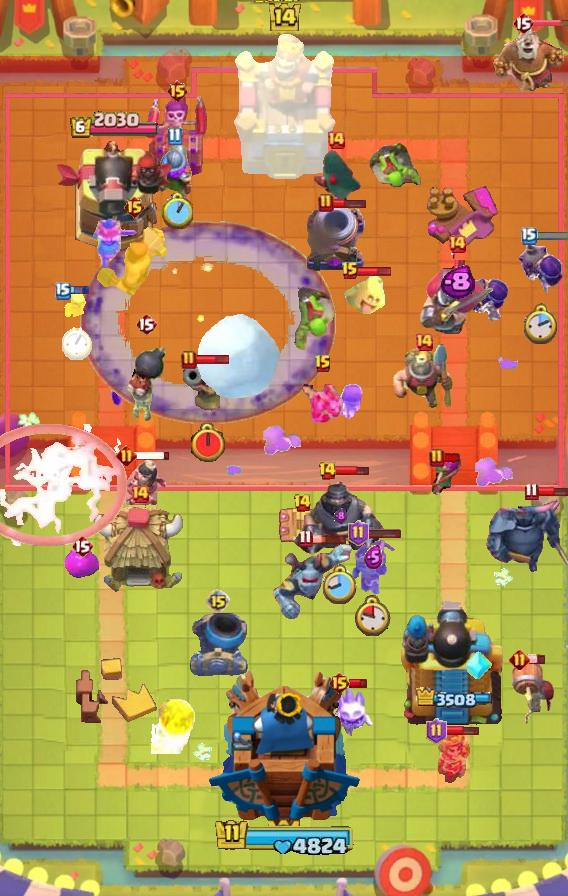archer: (429, 454, 467, 500)
bandit: (310, 149, 362, 205)
bar: (334, 464, 370, 477), (311, 533, 348, 545), (366, 527, 402, 539), (445, 725, 480, 737), (134, 450, 171, 461), (195, 354, 230, 365), (357, 266, 392, 277), (332, 198, 367, 209), (535, 230, 568, 241), (536, 486, 568, 497), (532, 18, 568, 27), (68, 285, 90, 296), (443, 452, 462, 464), (349, 678, 368, 689), (527, 654, 546, 665)
bar-level: (206, 589, 230, 613), (328, 671, 351, 695), (123, 195, 146, 219), (166, 79, 189, 103), (426, 718, 447, 744), (348, 520, 369, 546), (71, 534, 93, 558), (135, 312, 157, 336), (512, 11, 534, 35), (509, 649, 530, 670), (116, 445, 137, 466), (130, 484, 150, 504), (414, 332, 434, 352), (447, 234, 467, 254), (326, 130, 346, 150), (293, 493, 312, 513), (318, 461, 337, 481), (314, 354, 332, 374), (341, 261, 359, 281), (429, 448, 445, 468), (181, 350, 197, 370), (318, 193, 334, 213), (55, 282, 71, 300), (521, 227, 537, 245), (298, 529, 313, 548), (524, 482, 539, 501), (167, 127, 182, 146)
bomber: (122, 341, 170, 423)
bomber-evolution: (459, 273, 511, 327), (518, 240, 564, 298)
cannoneer-tower: (397, 595, 509, 731), (53, 138, 175, 256)
clock: (189, 422, 227, 464), (524, 303, 559, 346), (355, 595, 391, 636), (323, 564, 358, 606), (161, 193, 193, 229), (62, 326, 92, 360)
elixir: (440, 265, 475, 300), (364, 545, 383, 569), (334, 508, 347, 524)
elixir-golem-small: (64, 550, 100, 580)
goblin-ball: (286, 287, 336, 353), (367, 140, 425, 188)
heal-spirit: (342, 273, 386, 317)
ice-spirit-evolution: (332, 683, 376, 737)
ice-spirit-evolution-symbol: (464, 648, 492, 682)
king-tower: (207, 669, 362, 826), (231, 34, 338, 181)
king-tower-bar: (210, 817, 358, 859)
little-prince: (351, 537, 396, 595), (433, 732, 471, 784)
lumberjack: (97, 219, 171, 301)
mega-minion: (272, 541, 356, 619)
miner: (391, 343, 457, 411)
minion: (302, 379, 344, 425)
mortar: (188, 612, 248, 676)
mortar-evolution: (304, 204, 368, 274)
musketeer: (183, 358, 225, 426), (155, 141, 193, 203)
princess: (118, 456, 168, 510)
skeleton: (64, 289, 90, 319)
skeleton-evolution: (336, 382, 367, 422)
tesla: (277, 503, 327, 549)
tower-bar: (69, 111, 160, 140), (414, 687, 492, 709)
valkyrie: (91, 218, 139, 272)
wall-breaker: (509, 660, 557, 726)
